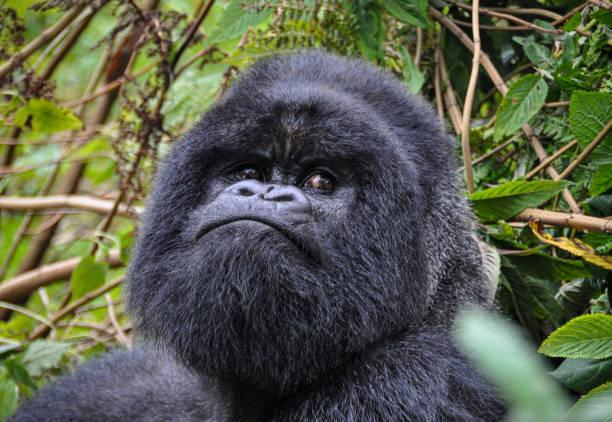goriile_montagne: (48, 0, 557, 422)
